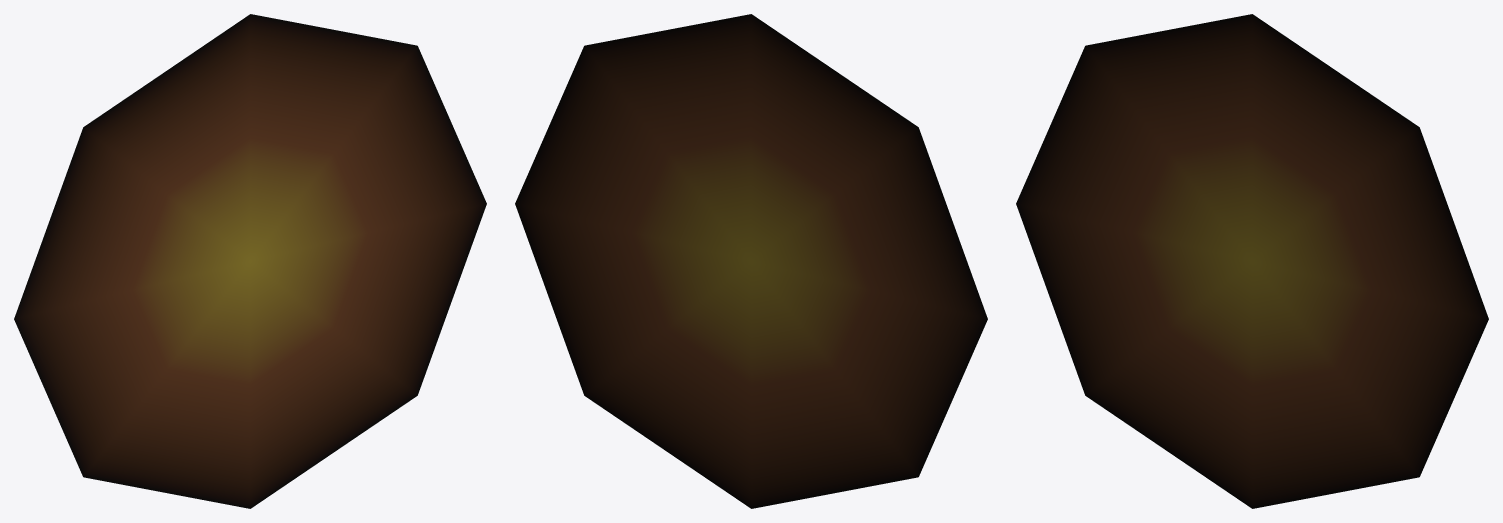
File: flare.glb
3 views of the same model, side by side, from view 1: azimuth 30°, elevation 25°; view 2: azimuth 150°, elevation 25°; view 3: azimuth 330°, elevation 25° (orthographic).
Visible parts, largest first — view 1: Circle; view 2: Circle; view 3: Circle.
Part boxes in pixels (<box>): Circle: <box>14,14,486,508</box>; Circle: <box>515,14,987,508</box>; Circle: <box>1016,14,1488,508</box>.
Bounding box in the file's own units: 2 × 2 × 1.19e-07.
